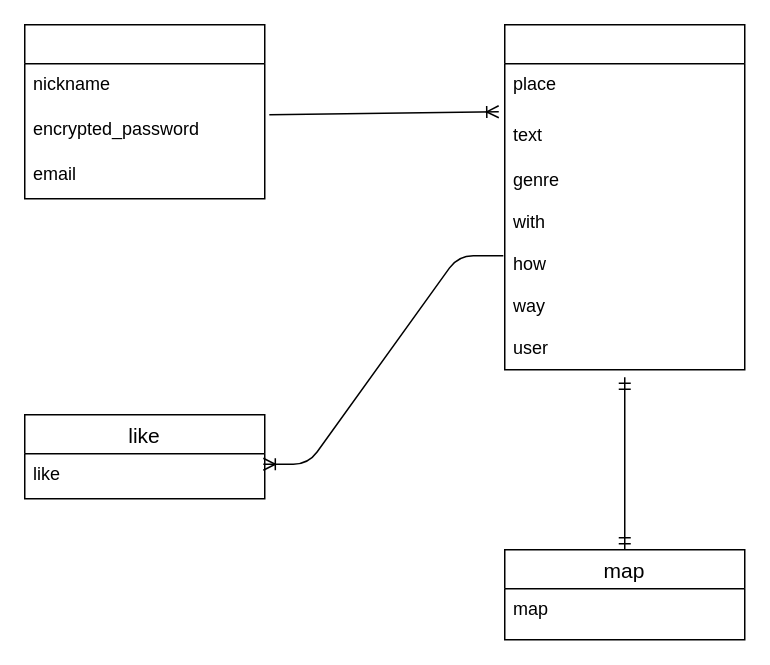
This 770x665 diagram has some shape labels left out. The shapes that lost their labels are listed below. From the top down, each one's box as (x1, y1, x2, y2) in pixels, then its label:
(23, 23, 265, 199): user
(503, 23, 745, 370): tweets
